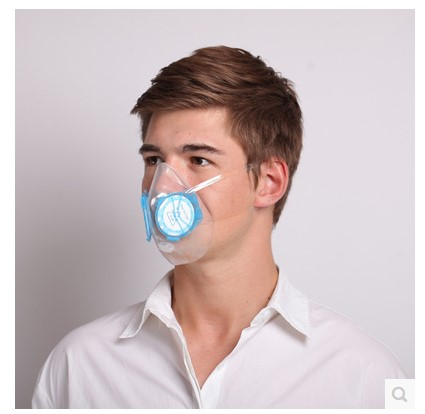face_mask: (141, 104, 254, 259)
